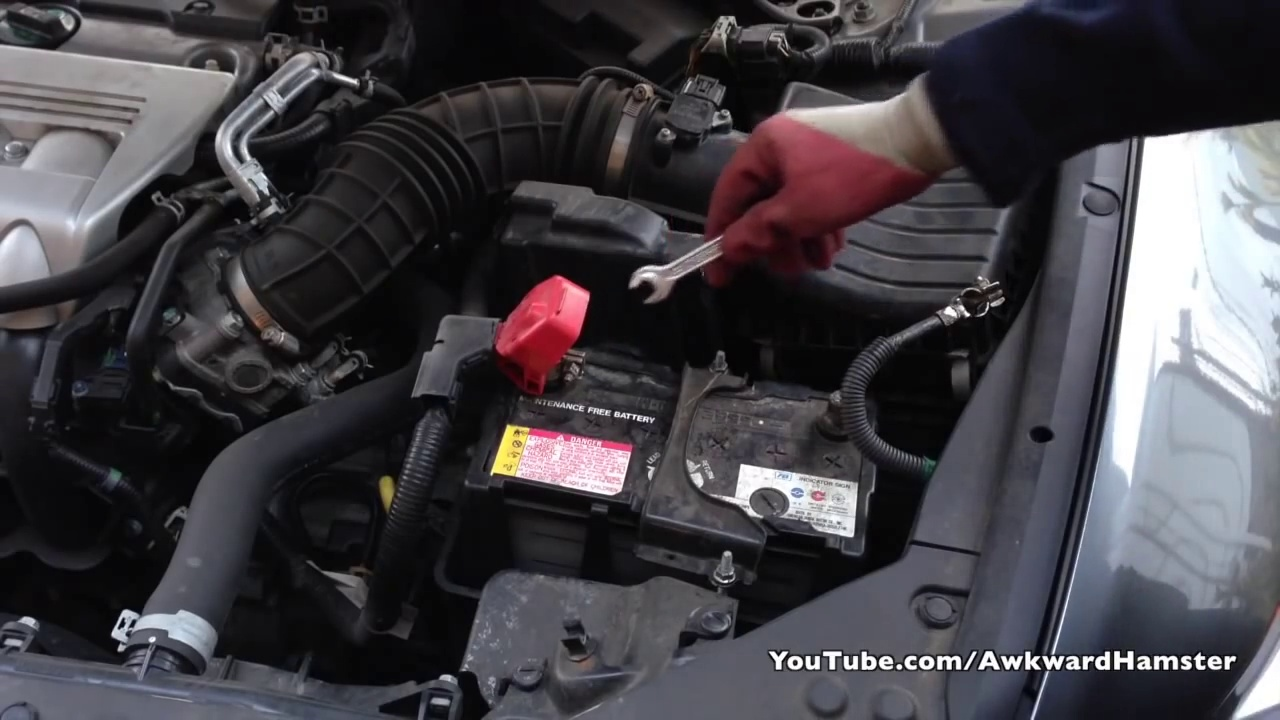battery: (455, 324, 871, 552)
neg_disconnected: (798, 365, 890, 443)
pos_connected: (477, 273, 615, 398)
